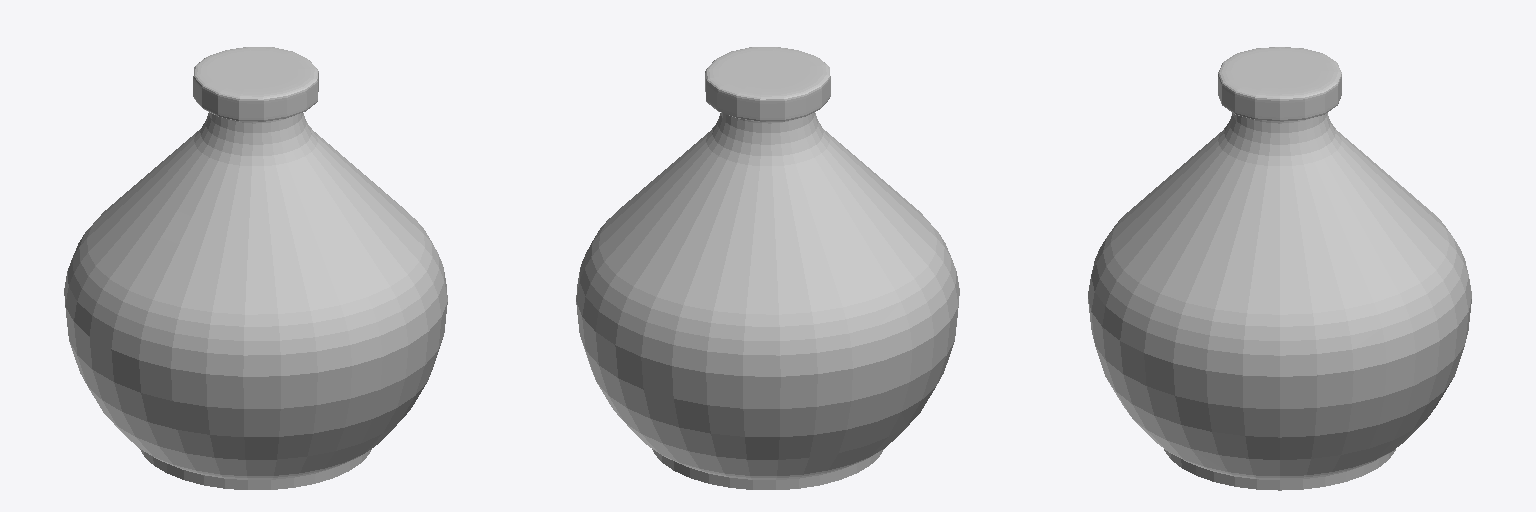
The model's file is SetA_PotionBottle_Style_01.obj.
3 views of the same model, side by side, from view 1: azimuth 30°, elevation 25°; view 2: azimuth 150°, elevation 25°; view 3: azimuth 270°, elevation 25° (orthographic).
Visible parts, largest first — view 1: SetA_PotionBottle_Style_01; view 2: SetA_PotionBottle_Style_01; view 3: SetA_PotionBottle_Style_01.
Part boxes in pixels (x1,y1,x2,y2): SetA_PotionBottle_Style_01: (64,47,447,489); SetA_PotionBottle_Style_01: (576,47,959,489); SetA_PotionBottle_Style_01: (1088,47,1471,490).
Size of the model in its own units: 0.074 by 0.0784 by 0.074.